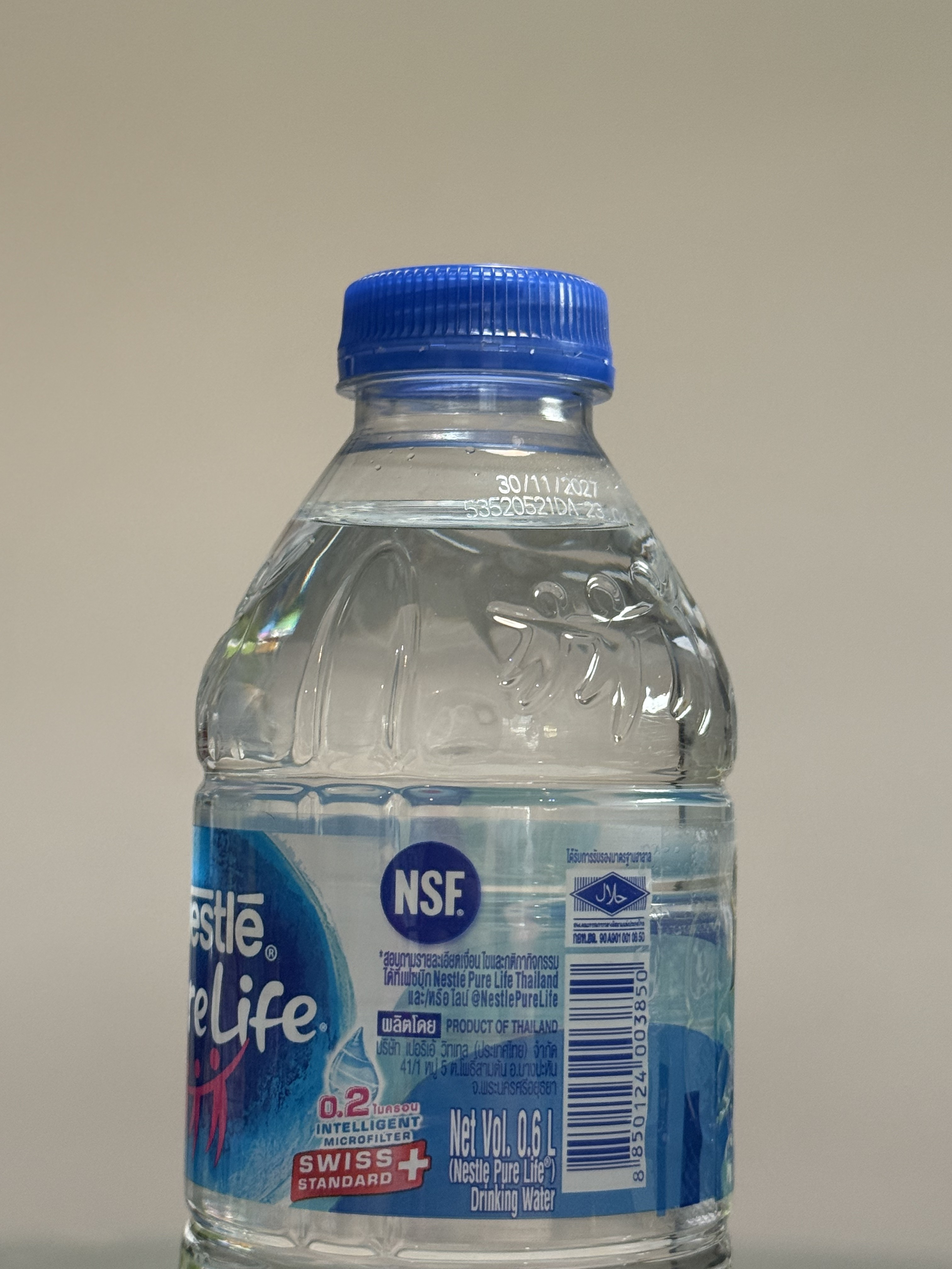closed_cap: (333, 259, 618, 400)
